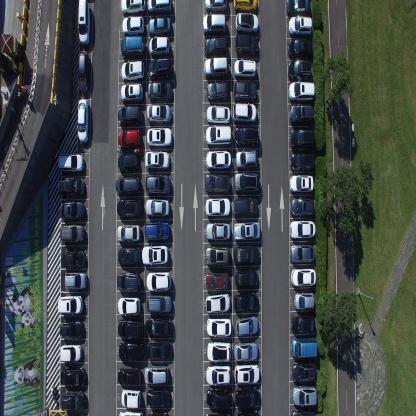car: (77, 0, 92, 48), (144, 315, 173, 338), (233, 220, 261, 242), (77, 98, 90, 145), (290, 127, 315, 151), (146, 271, 172, 294), (291, 384, 317, 407), (60, 247, 86, 270), (233, 364, 260, 386), (118, 341, 145, 363), (233, 172, 260, 194), (57, 175, 84, 197), (143, 220, 170, 242), (205, 124, 232, 146), (203, 56, 230, 78), (141, 245, 169, 266), (206, 386, 230, 410), (148, 56, 172, 80), (202, 11, 226, 35), (205, 246, 230, 269), (120, 34, 145, 57), (234, 125, 259, 148), (205, 364, 231, 386), (205, 292, 231, 314), (232, 246, 258, 268), (291, 361, 317, 383), (292, 338, 318, 360), (205, 196, 231, 218), (57, 293, 83, 315), (58, 152, 84, 174), (146, 126, 172, 148), (146, 102, 172, 124), (289, 81, 315, 103), (289, 242, 315, 264), (143, 364, 170, 385), (78, 48, 90, 95), (61, 389, 85, 412), (118, 103, 142, 126), (232, 101, 256, 124), (290, 103, 314, 126), (206, 315, 231, 337), (233, 292, 258, 314), (147, 292, 172, 314), (233, 269, 258, 291), (117, 272, 142, 294), (233, 196, 258, 218), (205, 172, 230, 194), (234, 386, 259, 408), (116, 222, 141, 244), (117, 198, 142, 220), (115, 175, 140, 197), (145, 149, 170, 171), (120, 59, 145, 81), (234, 34, 259, 56), (287, 38, 312, 60), (290, 196, 315, 218), (118, 319, 144, 340), (206, 150, 232, 171), (60, 366, 86, 387), (59, 200, 85, 221), (145, 174, 171, 195), (289, 219, 315, 240), (235, 315, 258, 338), (117, 127, 140, 150), (233, 58, 256, 81), (207, 341, 231, 363), (206, 220, 230, 242), (60, 222, 84, 244), (288, 15, 312, 37), (233, 342, 258, 363), (291, 315, 316, 336), (117, 366, 142, 387), (146, 387, 171, 408), (232, 80, 257, 101), (206, 104, 231, 125), (289, 173, 314, 194), (146, 340, 172, 360), (290, 268, 316, 288), (117, 151, 139, 174), (235, 12, 258, 34), (206, 80, 229, 102), (287, 60, 311, 81), (145, 198, 170, 218), (147, 80, 172, 100), (121, 14, 144, 35), (204, 35, 227, 56), (117, 296, 141, 316), (291, 153, 315, 173), (117, 247, 142, 266), (235, 150, 258, 170), (120, 82, 143, 102), (205, 272, 229, 291), (60, 320, 84, 339), (293, 292, 315, 312), (148, 34, 170, 54), (64, 272, 87, 291), (148, 16, 171, 35), (120, 388, 141, 408), (60, 343, 82, 362), (121, 0, 146, 16), (286, 0, 310, 16), (146, 0, 173, 14), (203, 0, 229, 14), (232, 0, 257, 12), (291, 408, 316, 416), (119, 408, 144, 415), (147, 409, 170, 415), (236, 410, 261, 415), (206, 411, 232, 415)
